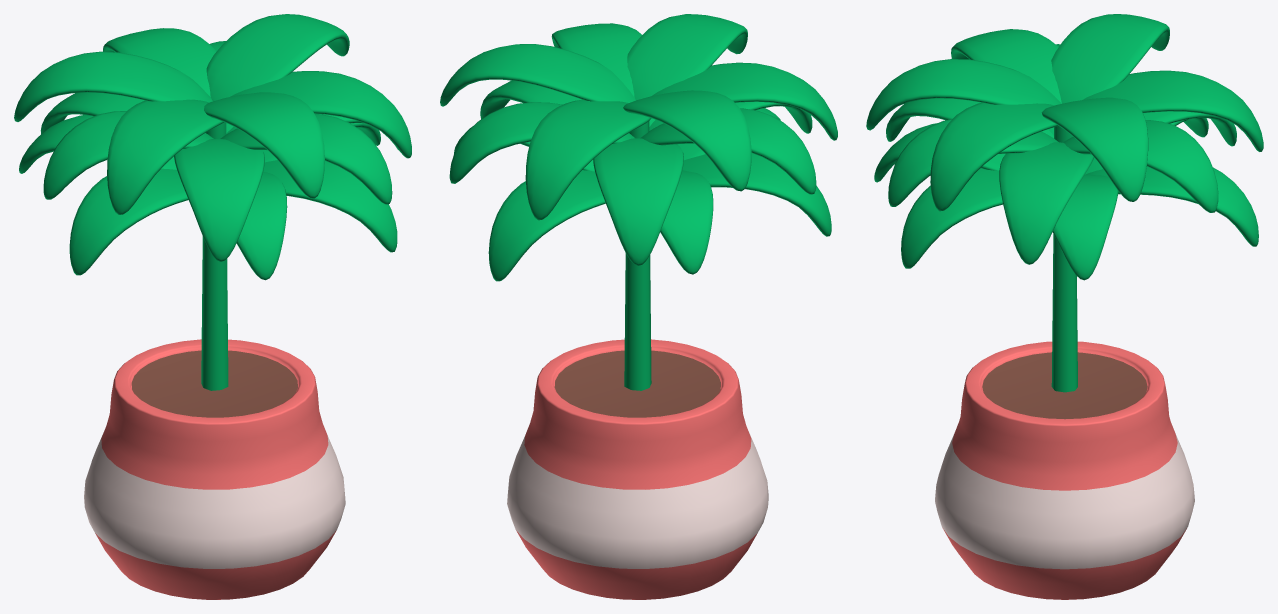
Rendered from Town_13_Plant_1.glb.
3 renders of one model, left to right at view 1: azimuth 30°, elevation 25°; view 2: azimuth 150°, elevation 25°; view 3: azimuth 270°, elevation 25°, orthographic.
Visible parts, largest first — view 1: Town_13_Plant_1; view 2: Town_13_Plant_1; view 3: Town_13_Plant_1.
Boxes of the visible parts, left/top/right/bottom form: Town_13_Plant_1: left=14, top=14, right=411, bottom=599; Town_13_Plant_1: left=440, top=14, right=837, bottom=599; Town_13_Plant_1: left=866, top=14, right=1263, bottom=599.
Bounding box in the file's own units: 0.8776 × 1.2 × 0.8787.
1 material, 1 textured.
